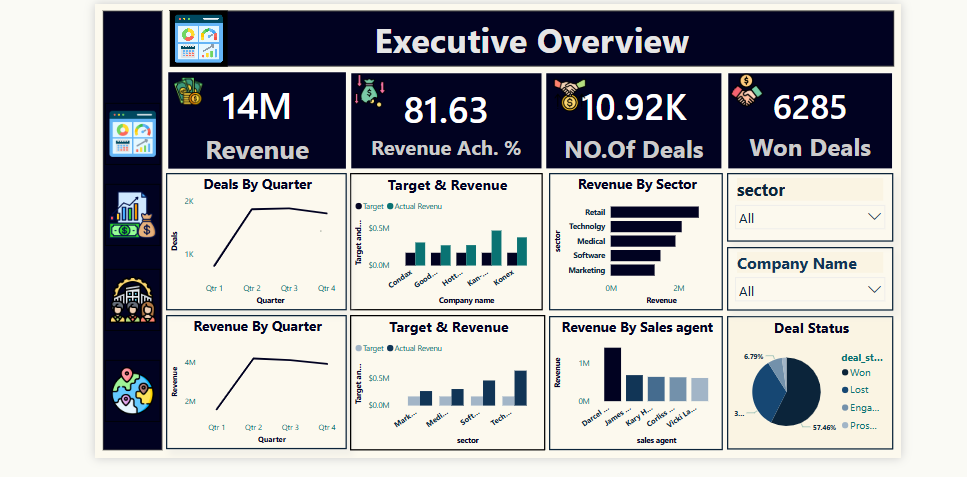

The dashboard page shown, as its layout file describes it:
{"tool":"powerbi","page":{"name":"Executive Overview","canvas":[1280,720],"ordinal":0},"visuals":[{"type":"shape","box":[12.3,10.8,93.8,696.9],"z":0},{"type":"image","box":[15.4,156.9,87.7,98.5],"z":1000},{"type":"image","box":[15.4,564.6,87.7,98.5],"z":2000},{"type":"image","box":[15.4,420,87.7,98.5],"z":3000},{"type":"image","box":[15.4,286.2,87.7,98.5],"z":4000},{"type":"shape","title":"dddd","box":[118.5,10.8,1149.2,87.7],"z":5000},{"type":"image","box":[118.5,10.8,90.8,87.7],"z":6000},{"type":"card","fields":{"Values":["sales_pipeline.Revenue Achievement %"]},"box":[404.5,107.5,306,155.2],"z":7000},{"type":"card","fields":{"Values":["sales_pipeline.deal_stage"]},"box":[714.9,107.5,282.1,155.2],"z":8000},{"type":"card","fields":{"Values":["sales_pipeline.Won Orders"]},"box":[1003,107.5,264.2,155.2],"z":9000},{"type":"card","fields":{"Values":["sales_pipeline.close_value"]},"box":[113.8,106.2,286.2,156.9],"z":10000},{"type":"image","box":[1003.1,98.5,63.1,76.9],"z":11000},{"type":"image","box":[352.3,326.2,12.3,70.8],"z":12000},{"type":"image","box":[404.6,98.5,63.1,78.5],"z":13000},{"type":"image","box":[721.5,106.2,63.1,76.9],"z":14000},{"type":"pieChart","title":"Deal Status","fields":{"Category":["sales_pipeline.deal_stage"],"Y":["sales_pipeline.opportunity_id"]},"box":[1003,495.5,264.2,211.9],"z":15000},{"type":"image","box":[118.5,103.1,58.5,70.8],"z":16000},{"type":"clusteredColumnChart","title":"Target & Revenue ","fields":{"Y":["accounts.revenue","sales_pipeline.close_value"],"Category":["sales_pipeline.Company name"]},"box":[404.5,268.7,306,217.9],"z":17000},{"type":"barChart","title":"Revenue By Sector","fields":{"Y":["sales_pipeline.close_value"],"Category":["sales_pipeline.sector"]},"box":[720.9,268.7,276.1,217.9],"z":18000},{"type":"lineChart","title":"Deals By Quarter","fields":{"Category":["sales_pipeline.close_date.Variation.Date Hierarchy.Quarter"],"Y":["sales_pipeline.Won Orders"]},"box":[113.4,268.7,286.6,217.9],"z":19000},{"type":"lineChart","title":"Revenue By Quarter","fields":{"Y":["sales_pipeline.close_value"],"Category":["sales_pipeline.close_date.Variation.Date Hierarchy.Quarter"]},"box":[113.4,494,286.6,213.4],"z":20000},{"type":"columnChart","title":"Revenue By Sales agent","fields":{"Category":["sales_pipeline.sales_agent"],"Y":["sales_pipeline.close_value"]},"box":[720.9,495.5,276.1,213.4],"z":21000},{"type":"clusteredColumnChart","title":"Target & Revenue ","fields":{"Y":["accounts.revenue","sales_pipeline.close_value"],"Category":["sales_pipeline.sector"]},"box":[404.5,494,310.4,214.9],"z":22000},{"type":"slicer","fields":{"Values":["sales_pipeline.sector"]},"box":[1003,268.7,264.2,109],"z":23000},{"type":"slicer","fields":{"Values":["sales_pipeline.Company name"]},"box":[1003,385.1,264.2,101.5],"z":24000}]}

Visuals, with their boxes in screenshot pixels (x1, y1, x2, y2):
shape: bbox=[101, 7, 160, 445]
image: bbox=[103, 99, 158, 161]
image: bbox=[103, 355, 158, 417]
image: bbox=[103, 264, 158, 326]
image: bbox=[103, 180, 158, 242]
"dddd" shape: bbox=[168, 7, 890, 62]
image: bbox=[168, 7, 225, 62]
card - sales_pipeline.Revenue Achievement %: bbox=[348, 68, 540, 165]
card - sales_pipeline.deal_stage: bbox=[543, 68, 720, 165]
card - sales_pipeline.Won Orders: bbox=[724, 68, 890, 165]
card - sales_pipeline.close_value: bbox=[165, 67, 345, 165]
image: bbox=[724, 62, 764, 110]
image: bbox=[315, 205, 322, 250]
image: bbox=[348, 62, 387, 111]
image: bbox=[547, 67, 587, 115]
"Deal Status" pieChart: bbox=[724, 312, 890, 445]
image: bbox=[168, 65, 204, 109]
"Target & Revenue " clusteredColumnChart: bbox=[348, 169, 540, 306]
"Revenue By Sector" barChart: bbox=[546, 169, 720, 306]
"Deals By Quarter" lineChart: bbox=[164, 169, 345, 306]
"Revenue By Quarter" lineChart: bbox=[164, 311, 345, 445]
"Revenue By Sales agent" columnChart: bbox=[546, 312, 720, 446]
"Target & Revenue " clusteredColumnChart: bbox=[348, 311, 543, 446]
slicer - sales_pipeline.sector: bbox=[724, 169, 890, 237]
slicer - sales_pipeline.Company name: bbox=[724, 242, 890, 306]
